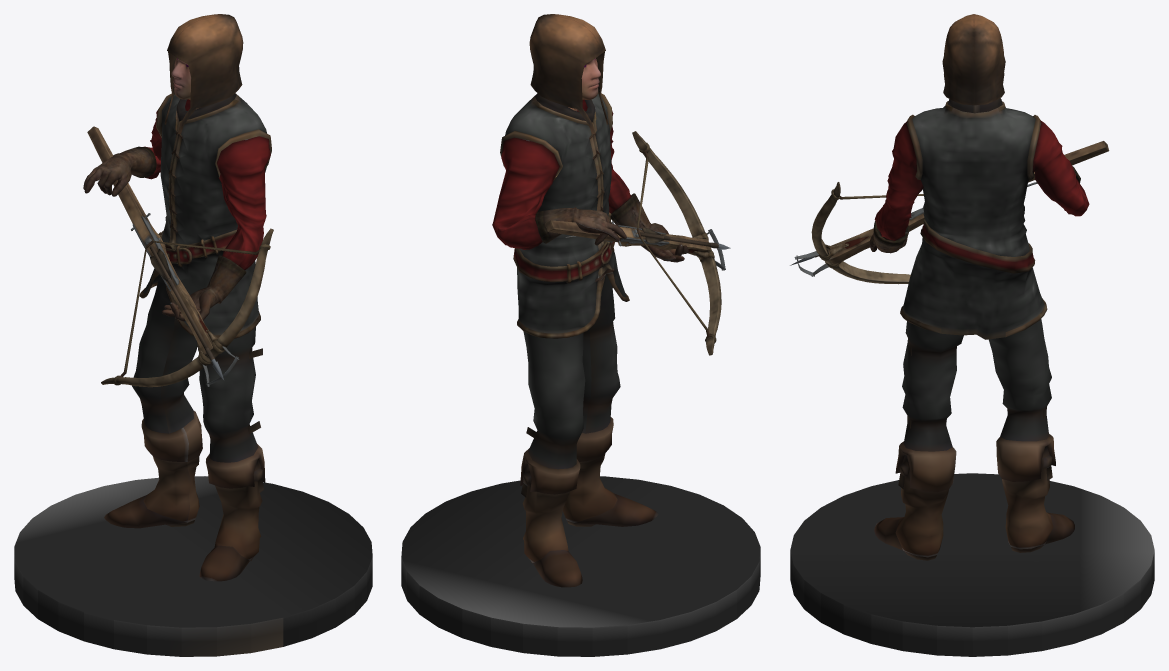
3 views of the same model, side by side, from view 1: azimuth 30°, elevation 25°; view 2: azimuth 150°, elevation 25°; view 3: azimuth 270°, elevation 25° (orthographic).
Parts seen in each view (by area): view 1: bolt.smd; view 2: bolt.smd; view 3: bolt.smd.
Part boxes in pixels (left/top/right/bottom): bolt.smd: left=14, top=14, right=372, bottom=656; bolt.smd: left=401, top=14, right=760, bottom=656; bolt.smd: left=790, top=14, right=1154, bottom=656.
Bounding box in the file's own units: 1 × 1.72 × 1.
Materials: 1 (1 with a texture image).
